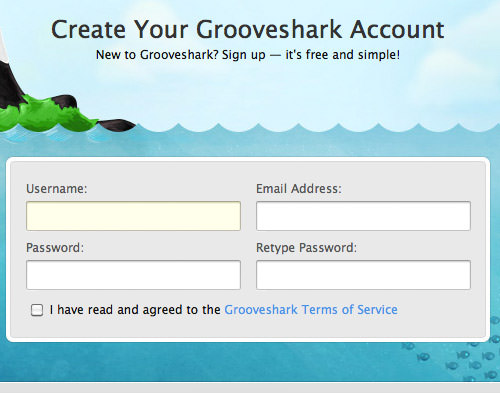checkbox: (27, 299, 45, 320)
textbox: (20, 197, 247, 236)
